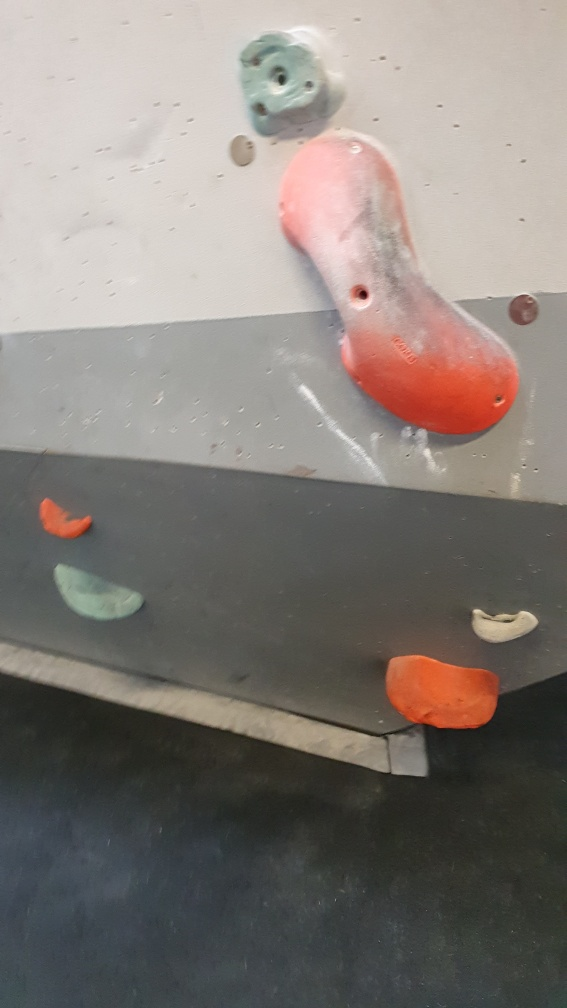Pinch: (276, 130, 518, 439)
